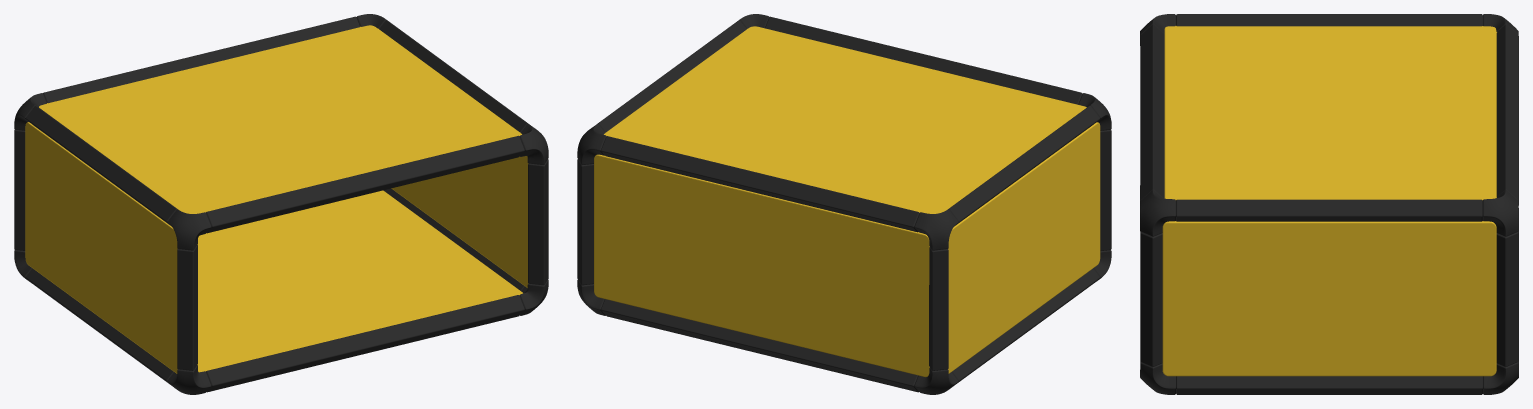
3 renders of one model, left to right at view 1: azimuth 30°, elevation 25°; view 2: azimuth 150°, elevation 25°; view 3: azimuth 270°, elevation 25°, orthographic. The views are drawn at different scales.
Parts seen in each view (by area): view 1: 420x329x154; view 2: 420x329x154; view 3: 420x329x154.
Part boxes in pixels (x1,y1,x2,y2): 420x329x154: (14, 14, 548, 394); 420x329x154: (577, 14, 1111, 394); 420x329x154: (1140, 14, 1518, 394).
Bounding box in the file's own units: 0.4977 × 0.2316 × 0.4063.
